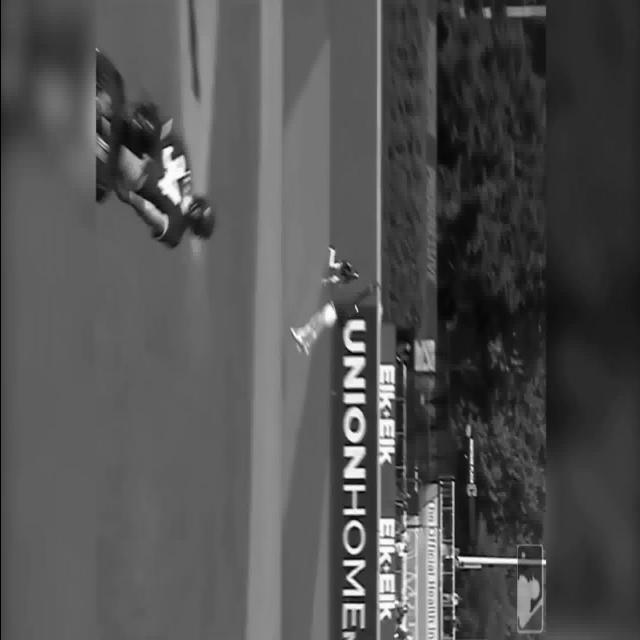shoe: (289, 326, 309, 356), (327, 244, 335, 252)
